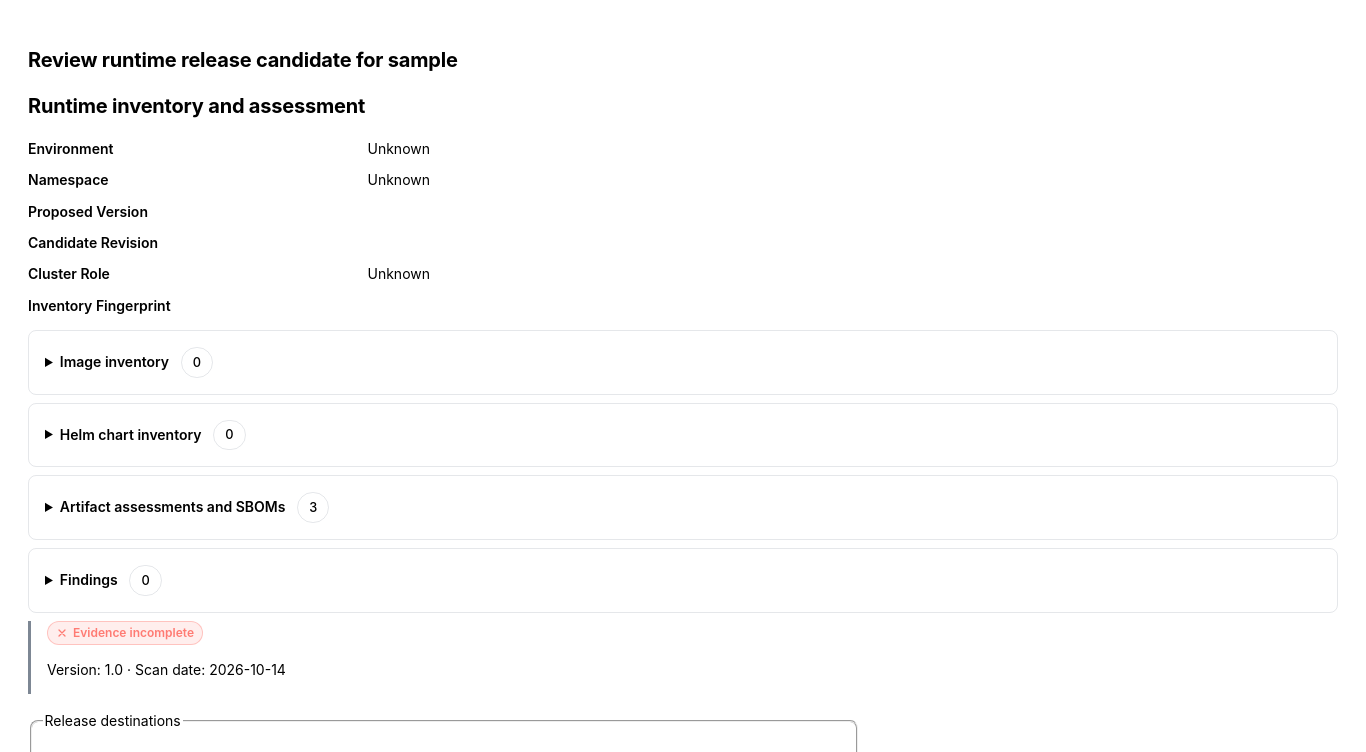
Scenario: shows catalog identities and service roles for assessed digests
Click the heading "Artifact assessments and SBOMs 3".
click(195, 508)  # box [60,492,329,523]
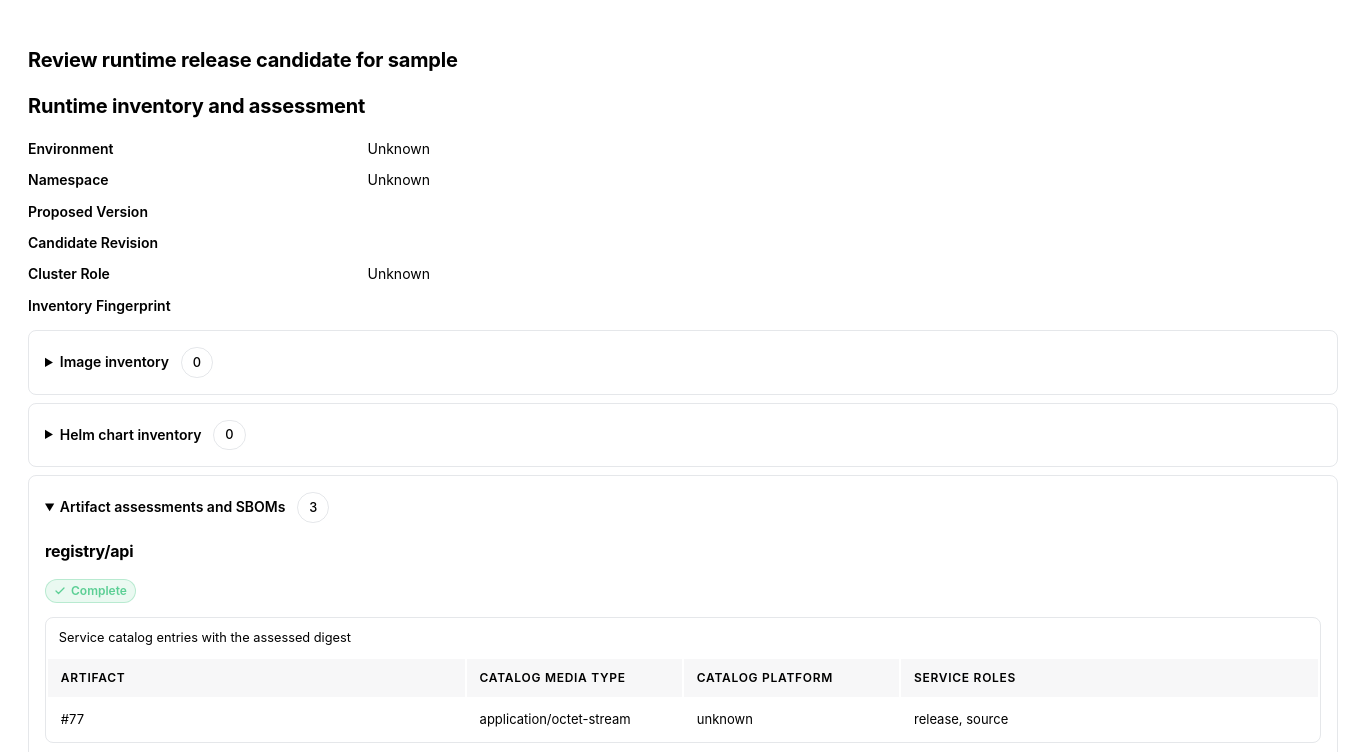
expect the column heading "Catalog platform" is shown: met, box [684,659,899,697]
expect the row "#77 application/octet-stream unknown release, source" is shown: met, box [48,699,1318,740]
